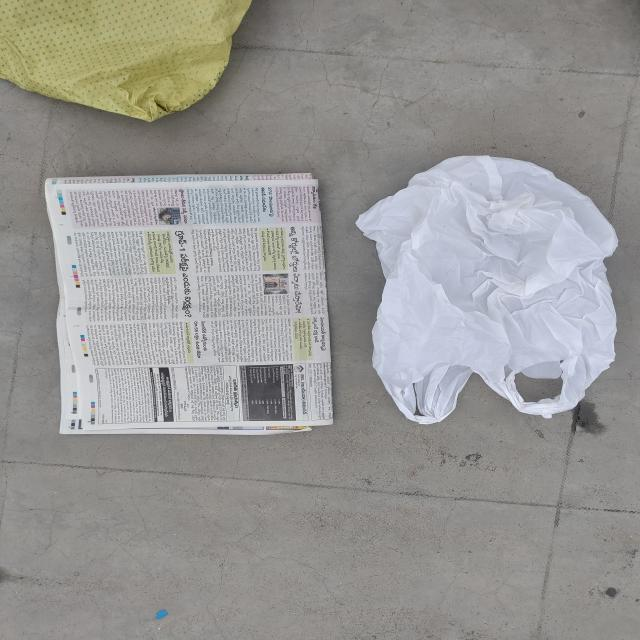dry: (33, 161, 350, 444), (380, 166, 640, 432), (0, 0, 311, 128)
